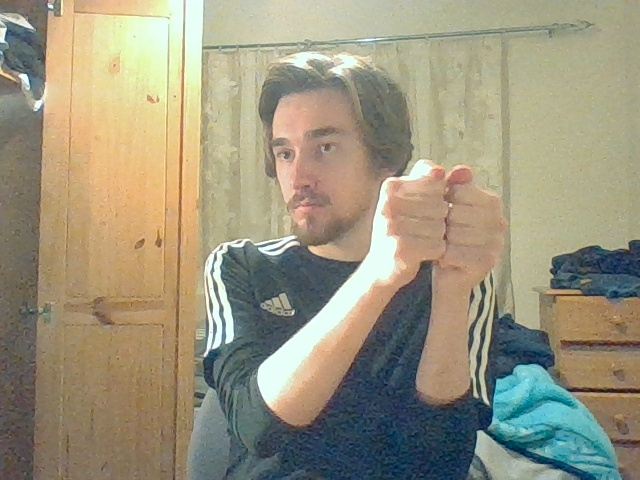brother: (376, 159, 506, 278)
